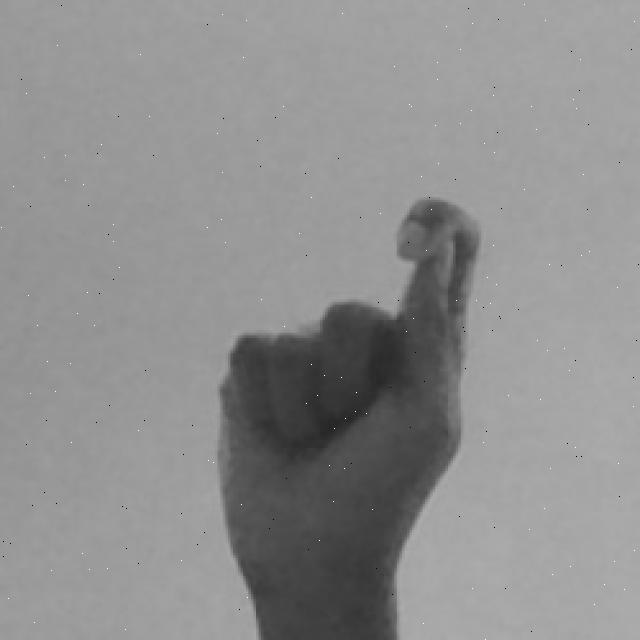T: (210, 189, 487, 640)
